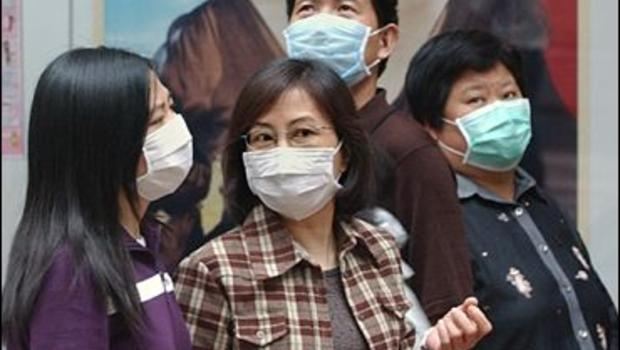mask: (244, 149, 344, 221), (282, 13, 369, 82), (458, 100, 533, 172), (137, 116, 196, 203)
